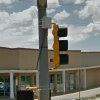Traffic light: (45, 19, 77, 71)
